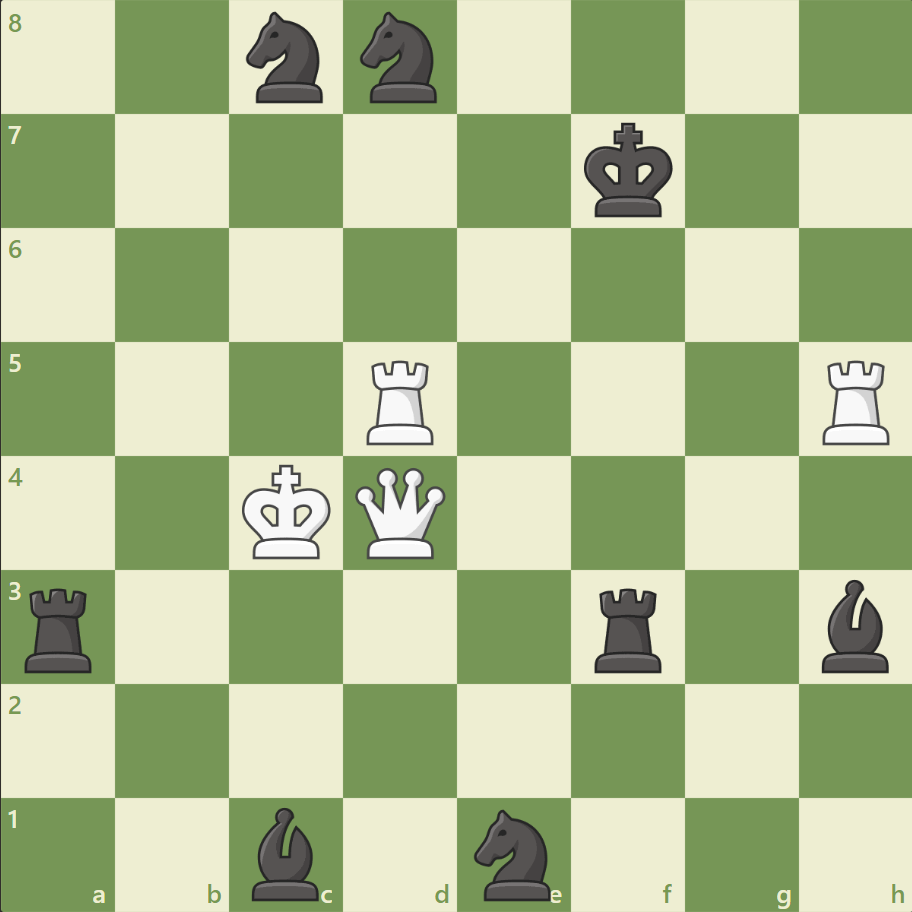K: (238, 458, 338, 566)
Q: (351, 463, 450, 562)
R: (814, 352, 897, 449), (360, 352, 442, 449)
b: (244, 801, 328, 904), (812, 574, 896, 676)
k: (579, 117, 679, 225)
n: (351, 7, 449, 110), (238, 7, 335, 110), (465, 802, 562, 904)
r: (19, 579, 102, 676), (587, 579, 670, 676)
